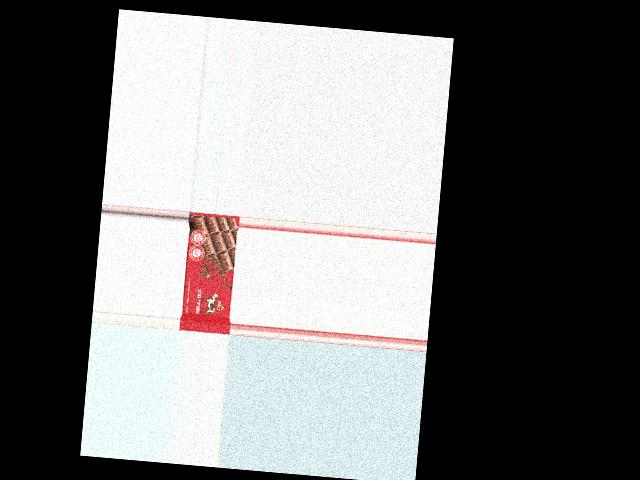chocolate: (178, 213, 239, 335)
